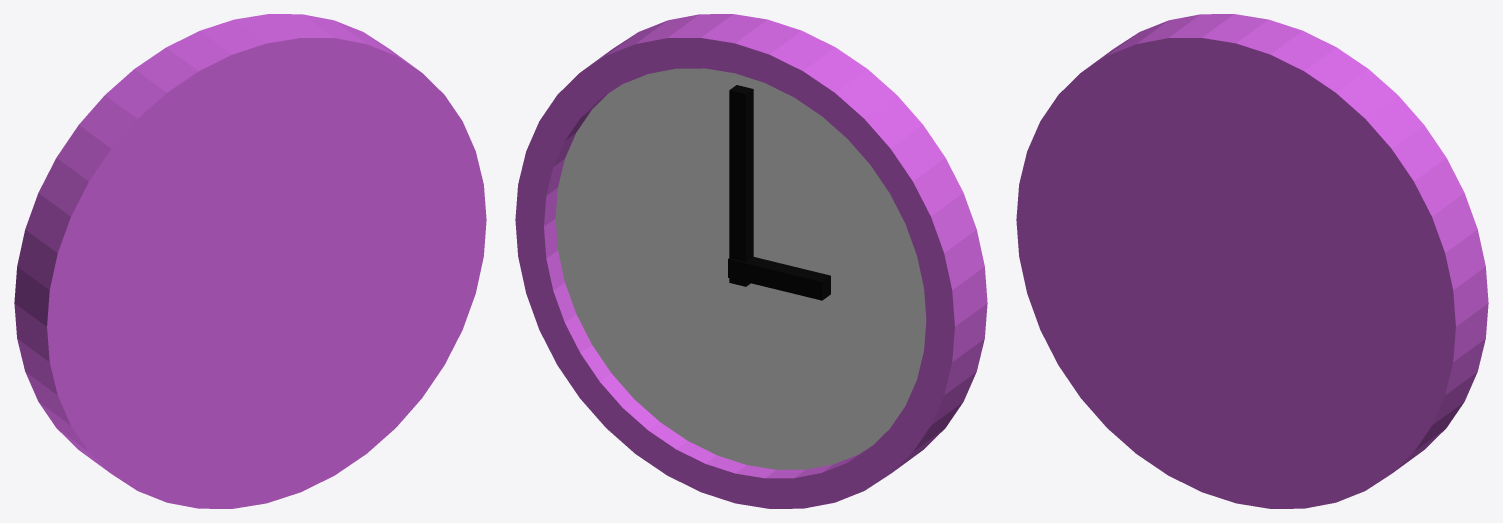
Rendered from time.fbx.
3 renders of one model, left to right at view 1: azimuth 30°, elevation 25°; view 2: azimuth 150°, elevation 25°; view 3: azimuth 330°, elevation 25°, orthographic.
Visible parts, largest first — view 1: 圓柱體; view 2: 圓柱體; view 3: 圓柱體.
Part boxes in pixels (x1=…): 圓柱體: x1=14, y1=14, x2=486, y2=508; 圓柱體: x1=515, y1=14, x2=987, y2=508; 圓柱體: x1=1016, y1=14, x2=1488, y2=508.
Size of the model in its own units: 2281 by 2281 by 293.
